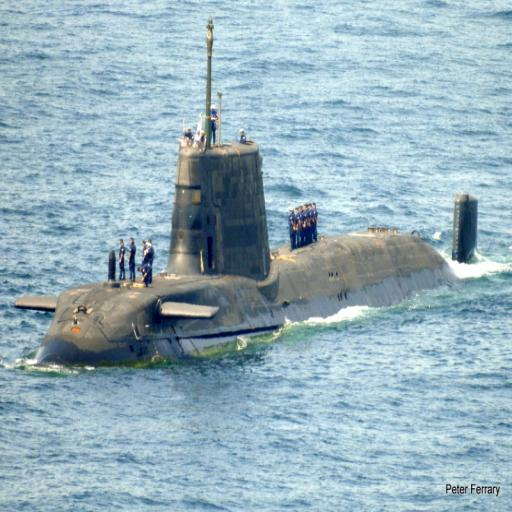submarine: (14, 13, 497, 370)
